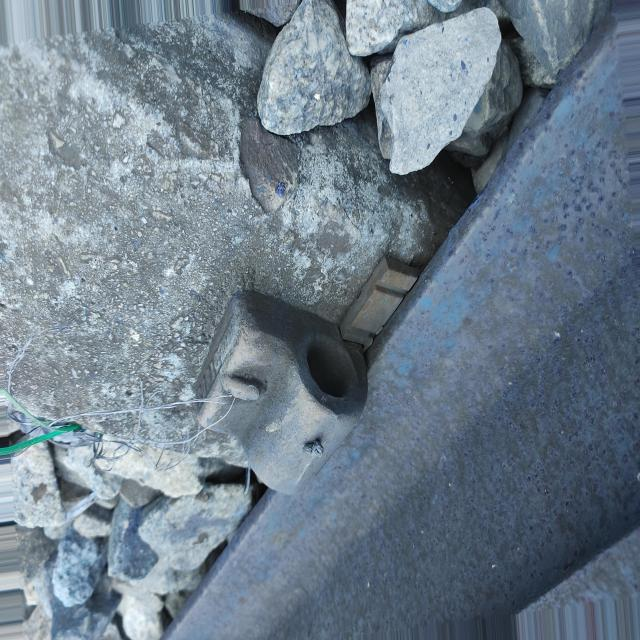Missing Fastener: (164, 247, 399, 547)
